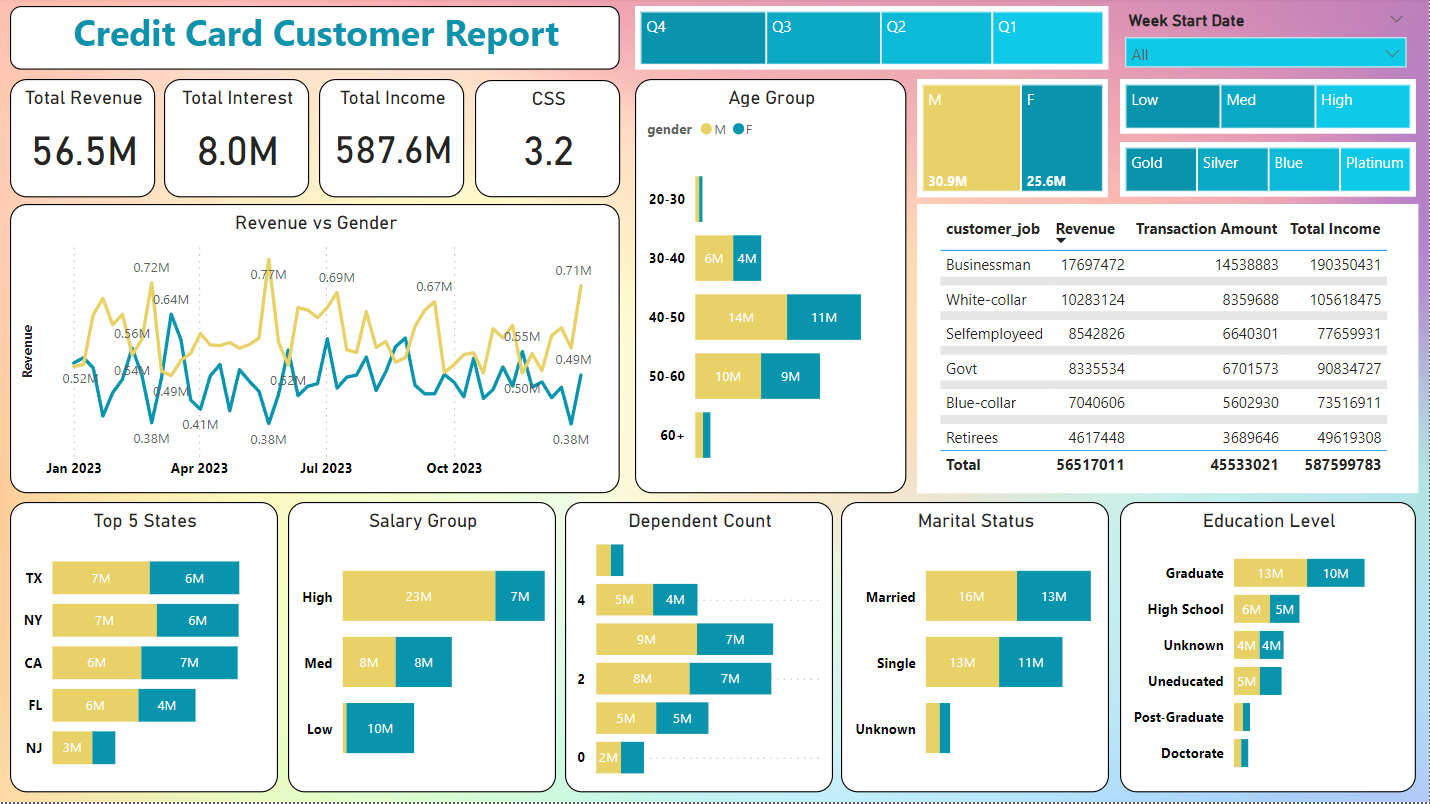

This screenshot's page, from the dashboard's own definition file:
{"tool":"powerbi","page":{"name":"Credit Card Customer Report","canvas":[1280,720],"ordinal":1},"visuals":[{"type":"textbox","box":[10.1,7.1,546.3,57.4],"z":0},{"type":"treemap","fields":{"Values":["Avg(public cust_detail.client_num)"],"Group":["public cc_detail.qtr"]},"box":[569.4,7.1,424.3,57.4],"z":1000},{"type":"treemap","fields":{"Group":["public cust_detail.gender"],"Values":["Sum(public cc_detail.Revenue)"]},"box":[822.4,72.6,171.3,105.8],"z":2000},{"type":"treemap","fields":{"Group":["public cust_detail.income_group"],"Values":["Avg(public cust_detail.client_num)"]},"box":[1003.8,72.6,265.1,49.4],"z":3000},{"type":"barChart","title":"Top 5 States","fields":{"Category":["public cust_detail.state_cd"],"Y":["Sum(public cc_detail.Revenue)"],"Series":["public cust_detail.gender"]},"box":[10.1,451.5,239.9,260],"z":4000},{"type":"barChart","title":"Salary Group","fields":{"Category":["public cust_detail.income_group"],"Y":["Sum(public cc_detail.Revenue)"],"Series":["public cust_detail.gender"]},"box":[259,451.5,239.9,260],"z":5000},{"type":"barChart","title":"Dependent Count","fields":{"Category":["public cust_detail.dependent_count"],"Y":["Sum(public cc_detail.Revenue)"],"Series":["public cust_detail.gender"]},"box":[507,451.5,239.9,260],"z":6000},{"type":"barChart","title":"Age Group","fields":{"Category":["public cust_detail.age_group"],"Series":["public cust_detail.gender"],"Y":["Sum(public cc_detail.Revenue)"]},"box":[569.4,72.6,242.9,370.9],"z":7000},{"type":"tableEx","fields":{"Values":["public cust_detail.customer_job","Sum(public cc_detail.Revenue)","Sum(public cc_detail.total_trans_amt)","Sum(public cust_detail.income)"]},"box":[822.4,184.4,448.5,259],"z":8000},{"type":"card","title":"Total Revenue","fields":{"Values":["Sum(public cc_detail.Revenue)"]},"box":[10.1,72.6,130,105.8],"z":9000},{"type":"card","title":"Total Interest","fields":{"Values":["Sum(public cc_detail.interest_earned)"]},"box":[148.2,72.6,130,105.8],"z":10000},{"type":"card","title":"Total Income","fields":{"Values":["Sum(public cust_detail.income)"]},"box":[286.2,72.6,130,105.8],"z":11000},{"type":"card","title":"CSS","fields":{"Values":["Avg(public cust_detail.cust_satisfaction_score)"]},"box":[426.3,73.6,130,104.8],"z":12000},{"type":"slicer","fields":{"Values":["public cc_detail.week_start_date"]},"box":[998.8,7.1,272.1,57.4],"z":13000},{"type":"treemap","fields":{"Group":["public cc_detail.card_category"],"Values":["Avg(public cust_detail.client_num)"]},"box":[1003.8,129,265.1,49.4],"z":14000},{"type":"barChart","title":"Marital Status","fields":{"Category":["public cust_detail.marital_status"],"Y":["Sum(public cc_detail.Revenue)"],"Series":["public cust_detail.gender"]},"box":[753.9,451.5,239.9,260],"z":15000},{"type":"barChart","title":"Education Level","fields":{"Category":["public cust_detail.education_level"],"Y":["Sum(public cc_detail.Revenue)"],"Series":["public cust_detail.gender"]},"box":[1003.8,451.5,265.1,260],"z":16000},{"type":"lineChart","title":"Revenue vs Gender","fields":{"Y":["Sum(public cc_detail.Revenue)"],"Series":["public cust_detail.gender"],"Category":["public cc_detail.week_start_date.Variation.Date Hierarchy.Year","public cc_detail.week_start_date.Variation.Date Hierarchy.Quarter","public cc_detail.week_start_date.Variation.Date Hierarchy.Month","public cc_detail.week_start_date.Variation.Date Hierarchy.Day"]},"box":[10.1,184.4,546.3,259],"z":17000}]}

Visuals, with their boxes in screenshot pixels (x1, y1, x2, y2), scaled from the page's 1280x720 canvas onto the 1430x804 screenshot:
textbox: [x1=11, y1=8, x2=622, y2=72]
treemap - Avg(public cust_detail.client_num) x public cc_detail.qtr: [x1=636, y1=8, x2=1110, y2=72]
treemap - public cust_detail.gender x Sum(public cc_detail.Revenue): [x1=919, y1=81, x2=1110, y2=199]
treemap - public cust_detail.income_group x Avg(public cust_detail.client_num): [x1=1121, y1=81, x2=1418, y2=136]
"Top 5 States" barChart: [x1=11, y1=504, x2=279, y2=795]
"Salary Group" barChart: [x1=289, y1=504, x2=557, y2=795]
"Dependent Count" barChart: [x1=566, y1=504, x2=834, y2=795]
"Age Group" barChart: [x1=636, y1=81, x2=907, y2=495]
tableEx - public cust_detail.customer_job x Sum(public cc_detail.Revenue): [x1=919, y1=206, x2=1420, y2=495]
"Total Revenue" card: [x1=11, y1=81, x2=157, y2=199]
"Total Interest" card: [x1=166, y1=81, x2=311, y2=199]
"Total Income" card: [x1=320, y1=81, x2=465, y2=199]
"CSS" card: [x1=476, y1=82, x2=621, y2=199]
slicer - public cc_detail.week_start_date: [x1=1116, y1=8, x2=1420, y2=72]
treemap - public cc_detail.card_category x Avg(public cust_detail.client_num): [x1=1121, y1=144, x2=1418, y2=199]
"Marital Status" barChart: [x1=842, y1=504, x2=1110, y2=795]
"Education Level" barChart: [x1=1121, y1=504, x2=1418, y2=795]
"Revenue vs Gender" lineChart: [x1=11, y1=206, x2=622, y2=495]
